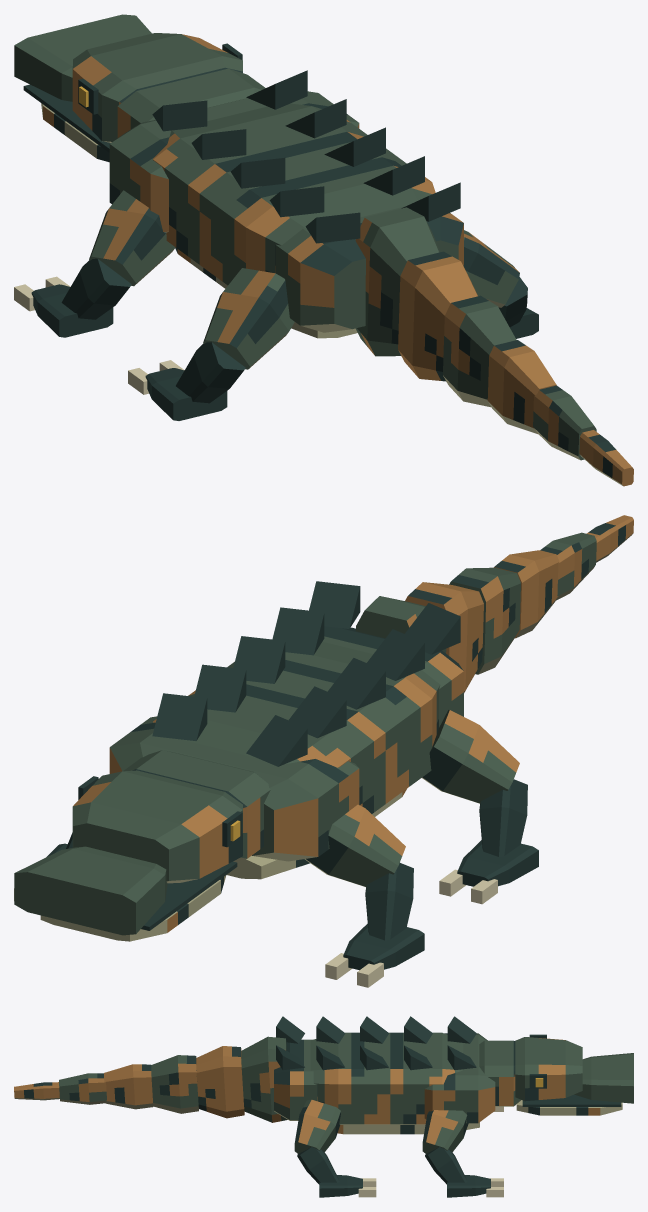
File: Tideback.gltf
The picture shows the model from 3 angles, top to bottom: view 1: azimuth 30°, elevation 25°; view 2: azimuth 150°, elevation 25°; view 3: azimuth 270°, elevation 25°; orthographic projection. The views are drawn at different scales.
Visible parts, largest first — view 1: Root, Head, Tail0, Tail1, Leg-11.0, Leg-1-0.75_Knee, Leg-11.0_Knee, Tail2, Leg-1-0.75, Tail3, Neck, Tail4 (+3 smaller); view 2: Root, Head, Leg-1-0.75_Knee, Leg-11.0_Knee, Leg-11.0, Leg-1-0.75, Neck, Tail2, Tail1, Tail3, Tail4, Tail0 (+1 smaller); view 3: Root, Head, Tail1, Tail0, Tail2, Leg11.0_Knee, Leg1-0.75_Knee, Tail3, Neck, Leg11.0, Leg1-0.75, Tail4 (+1 smaller).
Boxes of the visible parts, x1,y1,x2,y2 form: Root: (109,70,463,338); Head: (14,14,242,162); Tail0: (355,207,439,356); Tail1: (398,251,477,381); Leg-11.0: (203,268,294,369); Leg-1-0.75_Knee: (14,258,131,337); Leg-11.0_Knee: (128,342,245,420); Tail2: (443,295,516,407); Leg-1-0.75: (89,190,175,286); Tail3: (487,340,556,433); Neck: (117,68,265,137); Tail4: (533,385,596,460); Root: (109,581,463,879); Head: (14,770,242,941); Leg-1-0.75_Knee: (325,863,424,987); Leg-11.0_Knee: (439,779,538,904); Leg-11.0: (422,710,519,803); Leg-1-0.75: (304,804,405,886); Neck: (123,750,270,862); Tail2: (449,567,520,674); Tail1: (405,582,483,692); Tail3: (494,550,559,638); Tail4: (540,532,596,600); Tail0: (355,596,446,652); Root: (274,1016,495,1134); Head: (514,1034,633,1115); Tail1: (196,1046,244,1118); Tail0: (241,1036,287,1122); Tail2: (151,1055,198,1113); Leg11.0_Knee: (297,1147,376,1197); Leg1-0.75_Knee: (425,1147,503,1197); Tail3: (104,1064,153,1109); Neck: (479,1040,520,1106); Leg11.0: (294,1099,340,1153); Leg1-0.75: (422,1110,468,1153); Tail4: (59,1073,106,1104).
Bounding box in the file's own units: 3.24 × 1.72 × 8.49.
Materials: 1 (1 with a texture image).
